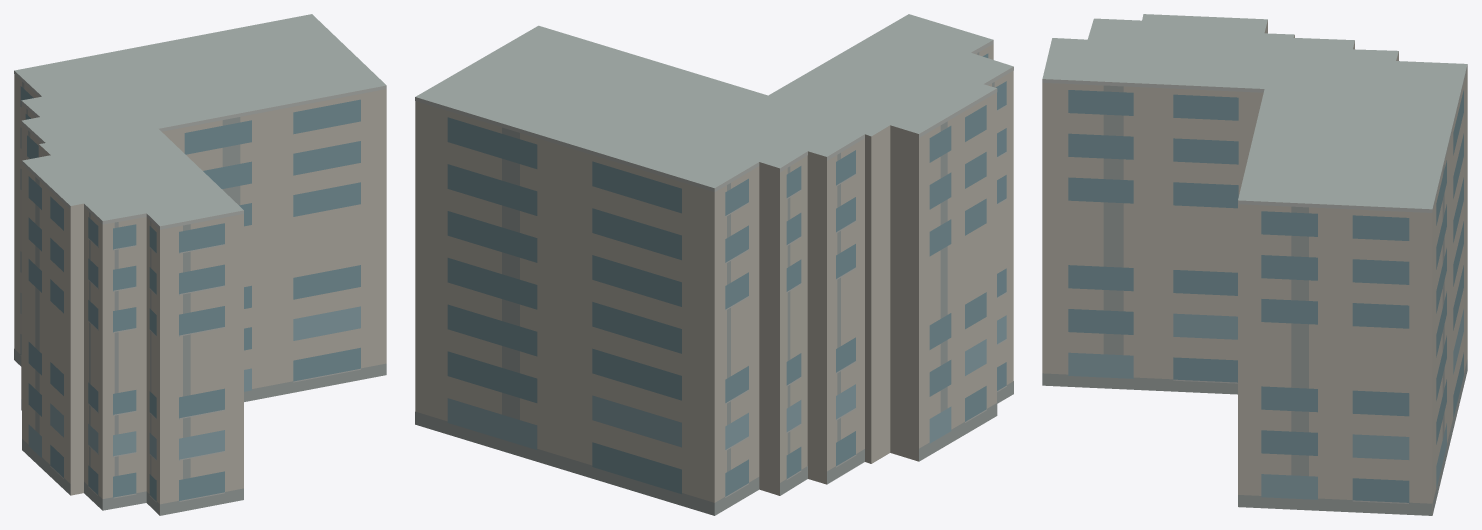
The model's file is survey-upis-32667088.glb.
3 renders of one model, left to right at view 1: azimuth 30°, elevation 25°; view 2: azimuth 150°, elevation 25°; view 3: azimuth 270°, elevation 25°, orthographic. The views are drawn at different scales.
Parts seen in each view (by area): view 1: survey-upis-32667088.tmp; view 2: survey-upis-32667088.tmp; view 3: survey-upis-32667088.tmp.
Part boxes in pixels (x1,y1,x2,y2): survey-upis-32667088.tmp: (14, 14, 386, 515); survey-upis-32667088.tmp: (415, 14, 1013, 515); survey-upis-32667088.tmp: (1042, 14, 1467, 515).
Bounding box in the file's own units: 27.05 × 19.8 × 24.89.
